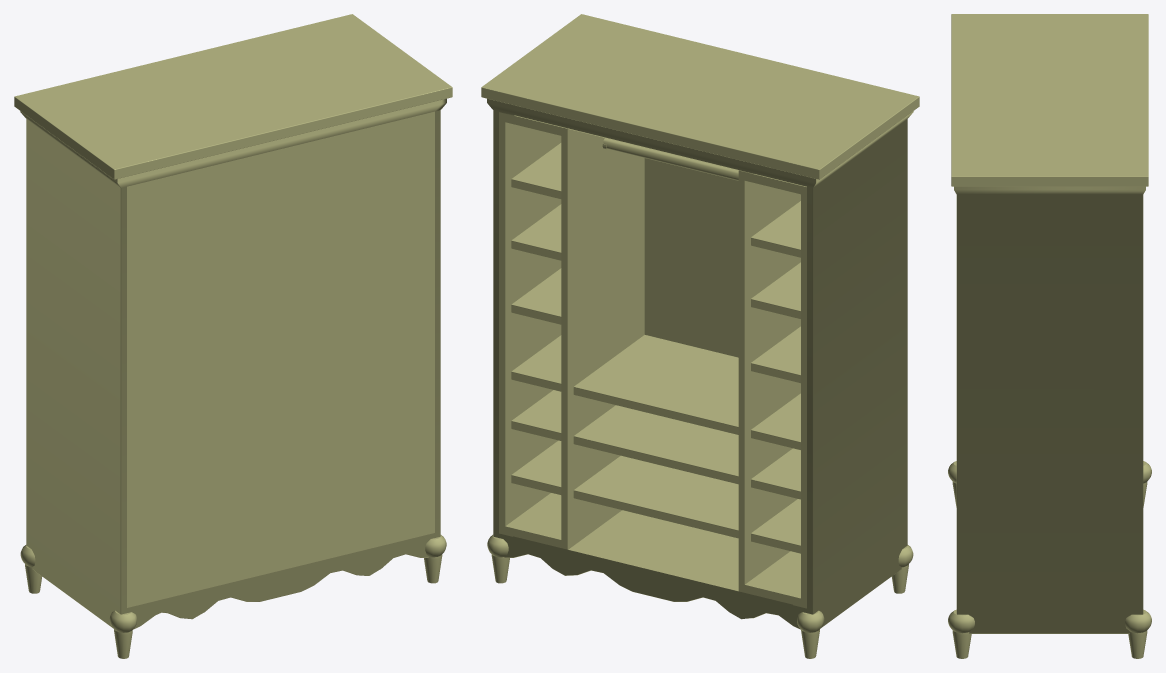
The model's file is Armoir02.fbx.
3 renders of one model, left to right at view 1: azimuth 30°, elevation 25°; view 2: azimuth 150°, elevation 25°; view 3: azimuth 270°, elevation 25°, orthographic.
Visible parts, largest first — view 1: Armoir02; view 2: Armoir02; view 3: Armoir02.
Boxes of the visible parts, x1,y1,x2,y2 form: Armoir02: [14, 14, 452, 658]; Armoir02: [481, 14, 919, 658]; Armoir02: [948, 14, 1151, 658].
Bounding box in the file's own units: 155 × 217 × 82.18.
